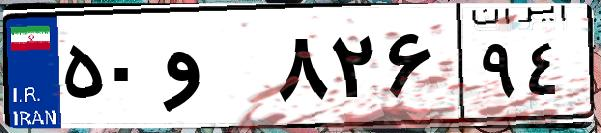0: (110, 28, 158, 98)
2: (330, 28, 385, 110)
4: (525, 38, 570, 115)
5: (57, 26, 110, 100)
6: (385, 28, 445, 110)
8: (270, 28, 330, 110)
9: (475, 38, 525, 113)
و: (158, 20, 270, 120)
